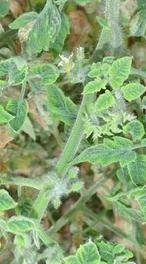Tomato leaf yellow virus: (105, 53, 137, 87), (0, 214, 44, 238), (89, 88, 129, 112), (0, 185, 33, 210), (76, 232, 98, 264)
